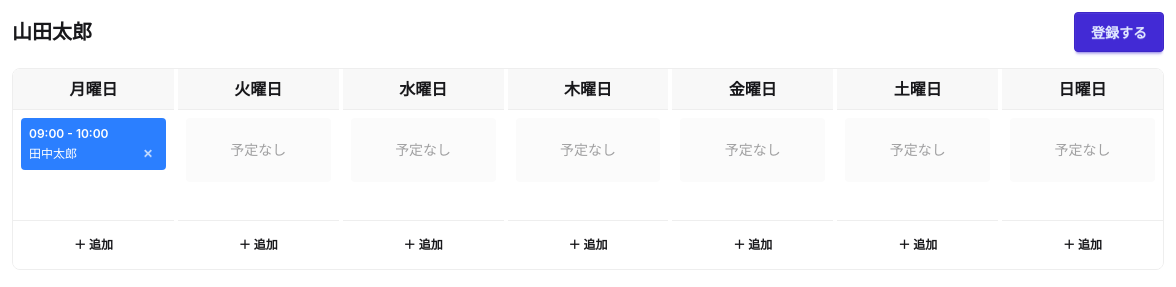
ClientWeeklyScheduleEditor › 削除フロー › 削除ボタンでスケジュールがdeleted状態になる
The width and height of the screenshot is (1176, 287).
Click the button named "削除".
click(148, 154)  # box [134,142,162,166]
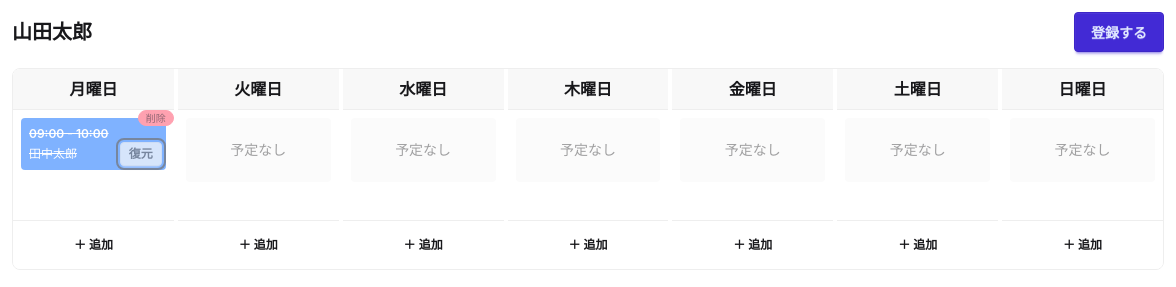
Expected: the message reads "削除", [146,112,166,124]
